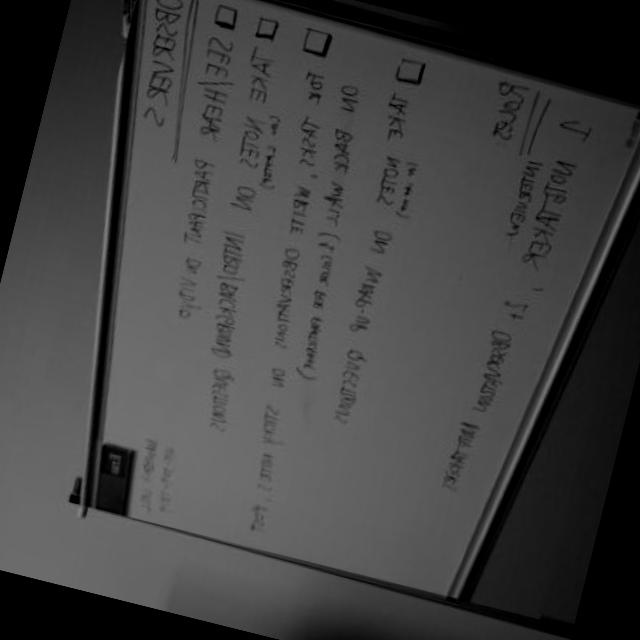White-board: (87, 0, 640, 602)
